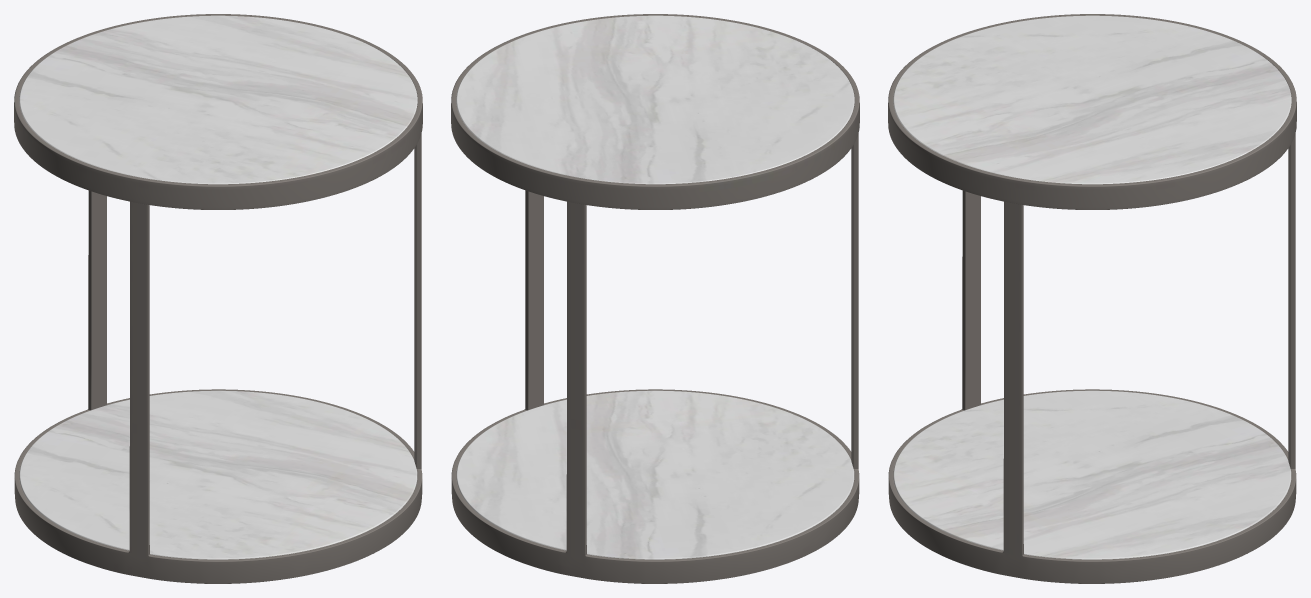
The model's file is abo-B072ZMSBQT.glb.
3 views of the same model, side by side, from view 1: azimuth 30°, elevation 25°; view 2: azimuth 150°, elevation 25°; view 3: azimuth 270°, elevation 25° (orthographic).
Size of the model in its own units: 0.445 by 0.479 by 0.445.
Materials: 1 (1 with a texture image).
